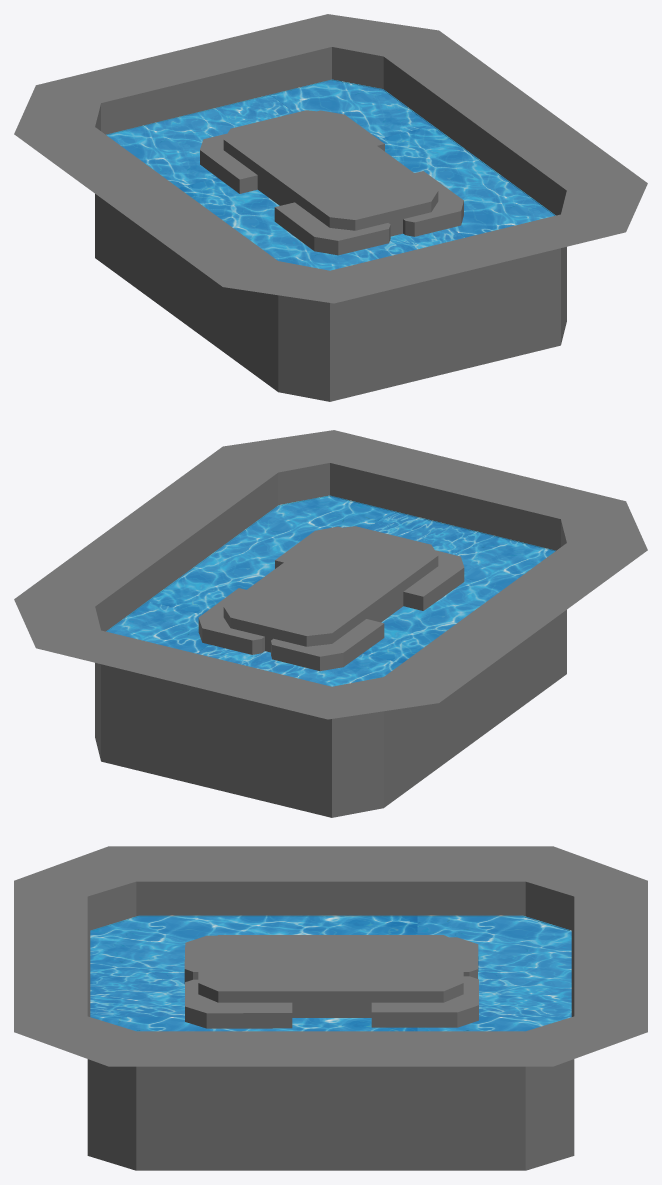
Rendered from EstanqueB.obj.
3 views of the same model, one above another, from view 1: azimuth 30°, elevation 25°; view 2: azimuth 150°, elevation 25°; view 3: azimuth 270°, elevation 25° (orthographic). The views are drawn at different scales.
Parts seen in each view (by area): view 1: EstanqueB2:polySurface1, Sea:pPlane2, EstanqueB2:pCube4; view 2: EstanqueB2:polySurface1, Sea:pPlane2, EstanqueB2:pCube4; view 3: EstanqueB2:polySurface1, Sea:pPlane2, EstanqueB2:pCube4.
Part boxes in pixels (left/top/right/bottom): EstanqueB2:polySurface1: left=14, top=14, right=647, bottom=401; Sea:pPlane2: left=106, top=79, right=555, bottom=270; EstanqueB2:pCube4: left=200, top=110, right=463, bottom=255; EstanqueB2:polySurface1: left=14, top=430, right=647, bottom=817; Sea:pPlane2: left=106, top=495, right=555, bottom=686; EstanqueB2:pCube4: left=198, top=526, right=464, bottom=671; EstanqueB2:polySurface1: left=14, top=846, right=647, bottom=1170; Sea:pPlane2: left=90, top=915, right=571, bottom=1031; EstanqueB2:pCube4: left=184, top=935, right=478, bottom=1028.
Size of the model in its own units: 11.26 by 3.32 by 13.68.
3 materials, 3 textured.
